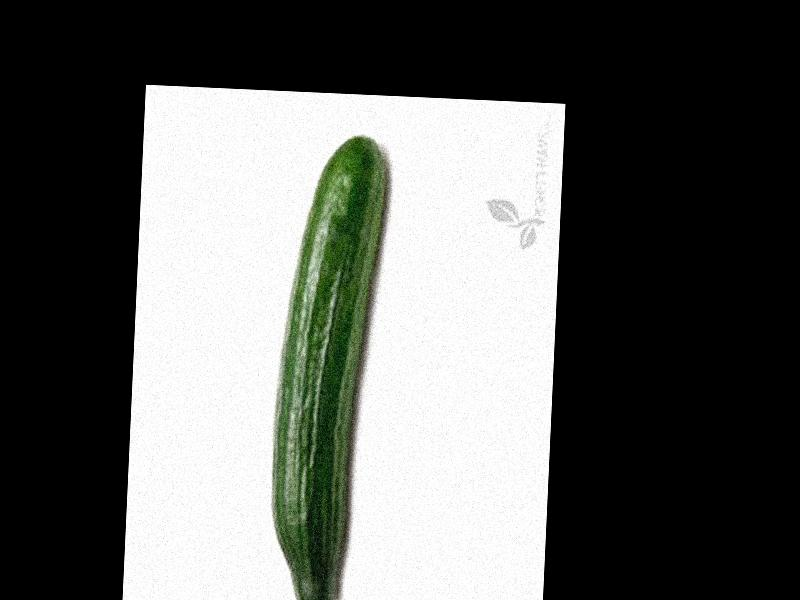Cucumber: (266, 130, 388, 600)
